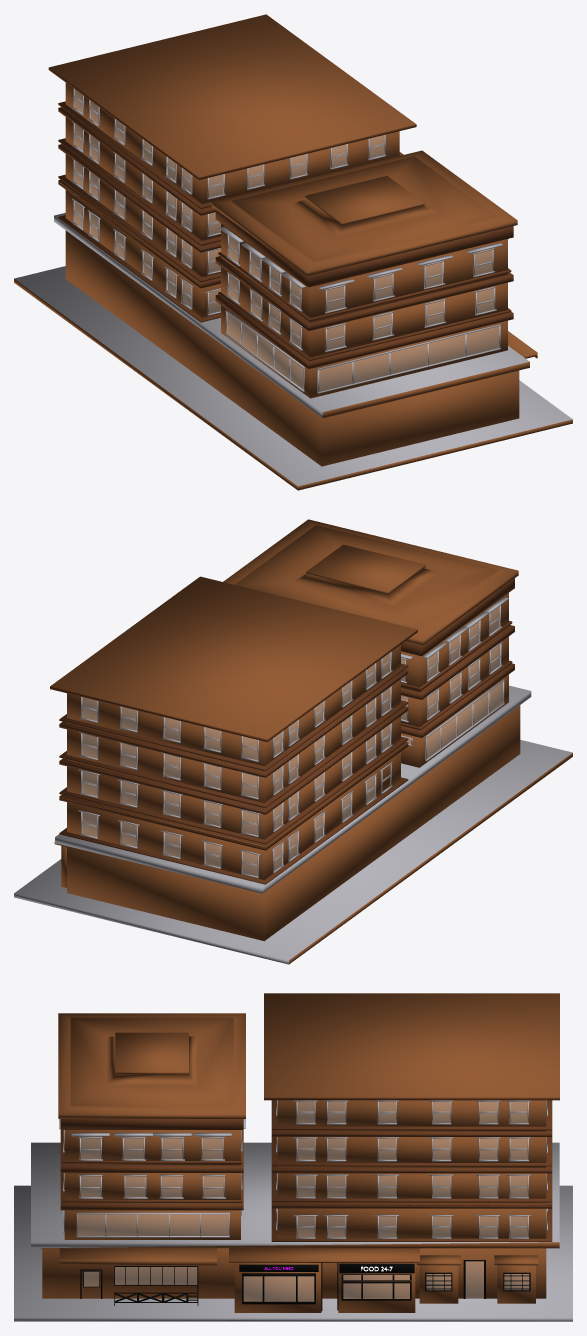
The model's file is apartment3.glb.
The picture shows the model from 3 angles, top to bottom: view 1: azimuth 30°, elevation 25°; view 2: azimuth 150°, elevation 25°; view 3: azimuth 270°, elevation 25°; orthographic projection.
Parts seen in each view (by area): view 1: Small Apartment Building2; view 2: Small Apartment Building2; view 3: Small Apartment Building2.
Boxes of the visible parts, x1,y1,x2,y2 form: Small Apartment Building2: [14, 14, 572, 490]; Small Apartment Building2: [14, 519, 572, 964]; Small Apartment Building2: [14, 993, 572, 1321].
Bounding box in the file's own units: 36.81 × 27.28 × 65.86.
